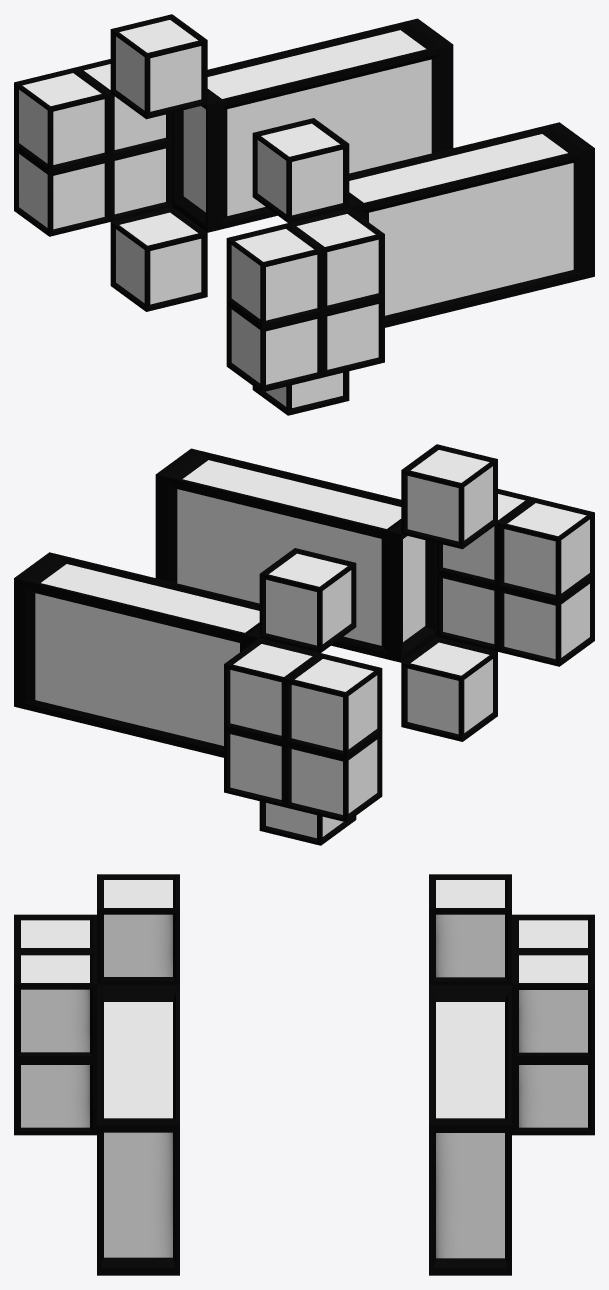
File: Boss.fbx
3 renders of one model, top to bottom at view 1: azimuth 30°, elevation 25°; view 2: azimuth 150°, elevation 25°; view 3: azimuth 270°, elevation 25°, orthographic. The views are drawn at different scales.
Parts seen in each view (by area): view 1: Boss.001, Boss, Fingers.003, Fingers.001, Fingers.002, Fingers, FingerLow, FingerLow.001, FingerLow.003, FingerLow.002; view 2: Boss, Boss.001, Fingers.001, Fingers.003, Fingers, Fingers.002, FingerLow.001, FingerLow.002, FingerLow.003, FingerLow; view 3: Boss, Boss.001, Fingers.001, Fingers.003, FingerLow.001, FingerLow.003, Fingers, Fingers.002.
Boxes of the visible parts, left/top/right/bottom form: Boss.001: left=349, top=122, right=594, bottom=327; Boss: left=172, top=18, right=453, bottom=232; Fingers.003: left=226, top=208, right=384, bottom=328; Fingers.001: left=14, top=59, right=172, bottom=172; Fingers.002: left=226, top=298, right=384, bottom=392; Fingers: left=14, top=142, right=172, bottom=236; FingerLow: left=110, top=207, right=207, bottom=311; FingerLow.001: left=110, top=14, right=207, bottom=119; FingerLow.003: left=252, top=118, right=349, bottom=222; FingerLow.002: left=252, top=371, right=349, bottom=415; Boss: left=14, top=552, right=259, bottom=757; Boss.001: left=155, top=448, right=436, bottom=662; Fingers.001: left=224, top=638, right=382, bottom=758; Fingers.003: left=436, top=489, right=594, bottom=602; Fingers: left=224, top=728, right=382, bottom=822; Fingers.002: left=436, top=572, right=594, bottom=666; FingerLow.001: left=259, top=548, right=356, bottom=652; FingerLow.002: left=401, top=637, right=497, bottom=741; FingerLow.003: left=401, top=444, right=497, bottom=549; FingerLow: left=259, top=801, right=356, bottom=845; Boss: left=429, top=984, right=511, bottom=1275; Boss.001: left=97, top=984, right=179, bottom=1275; Fingers.001: left=512, top=914, right=594, bottom=1059; Fingers.003: left=14, top=914, right=96, bottom=1059; FingerLow.001: left=429, top=874, right=511, bottom=984; FingerLow.003: left=97, top=874, right=179, bottom=984; Fingers: left=512, top=1060, right=594, bottom=1135; Fingers.002: left=14, top=1060, right=96, bottom=1135.
Bounding box in the file's own units: 1200 × 800 × 1400.
Materials: 10 (10 with a texture image).
